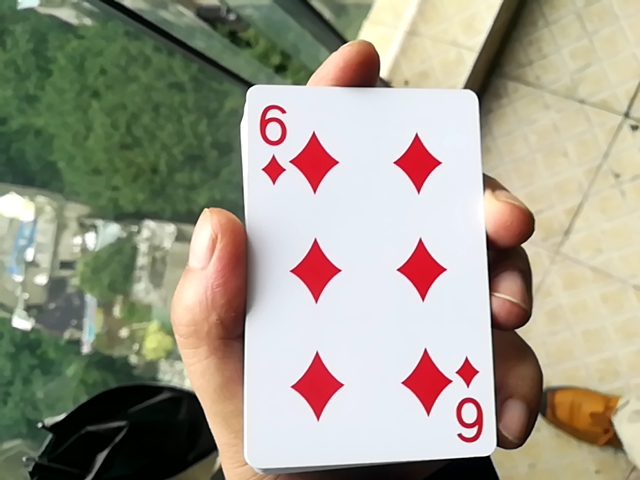fk 6: (229, 83, 494, 474)
